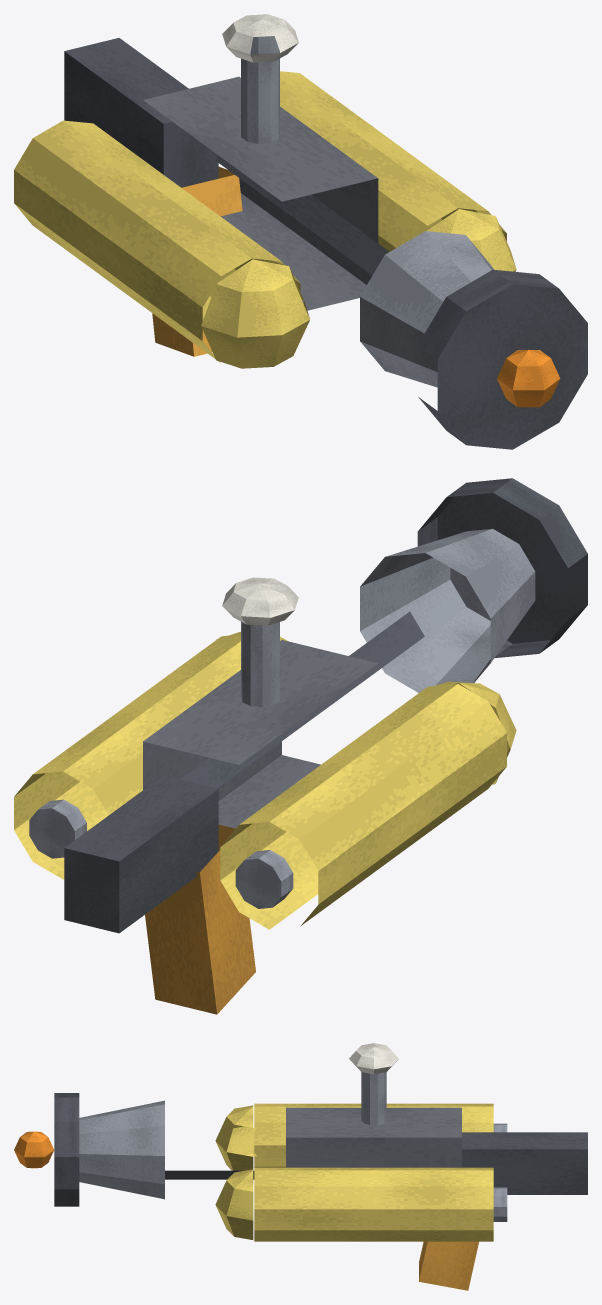
The model's file is weapon_flamer.glb.
The picture shows the model from 3 angles, top to bottom: view 1: azimuth 30°, elevation 25°; view 2: azimuth 150°, elevation 25°; view 3: azimuth 270°, elevation 25°; orthographic projection. The views are drawn at different scales.
Parts seen in each view (by area): view 1: weapon_flamer; view 2: weapon_flamer; view 3: weapon_flamer.
Boxes of the visible parts, bbox=[...] form: weapon_flamer: bbox=[14, 14, 587, 449]; weapon_flamer: bbox=[14, 478, 587, 1014]; weapon_flamer: bbox=[14, 1043, 587, 1290].
Size of the model in its own units: 0.9 by 1.03 by 2.28.
Materials: 1 (1 with a texture image).
